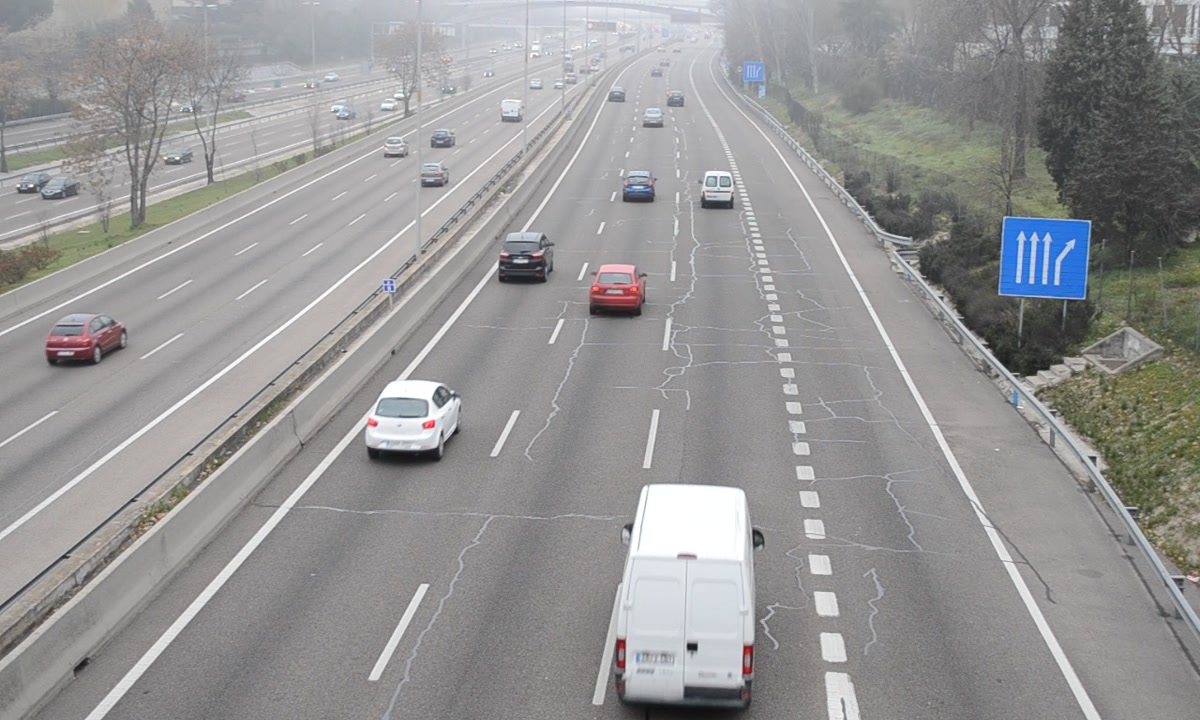car: (365, 381, 461, 451), (498, 232, 551, 280), (591, 263, 643, 311), (622, 170, 656, 202)
van: (615, 484, 756, 704), (701, 169, 737, 210)
